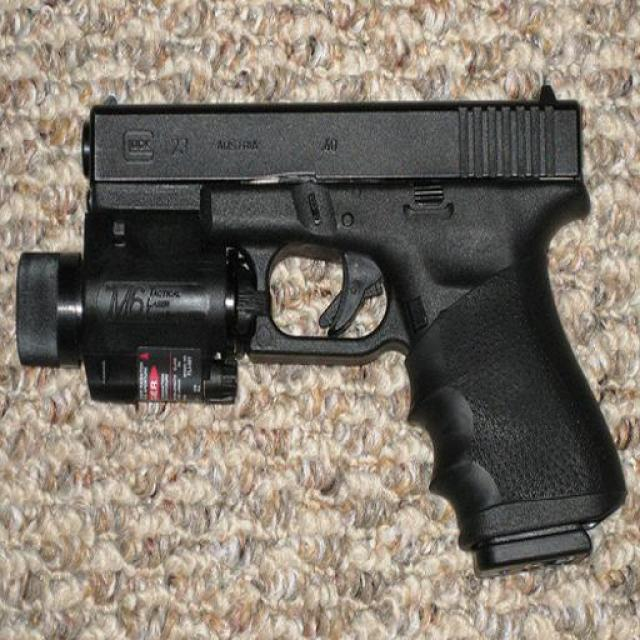pistol: (14, 85, 620, 581)
